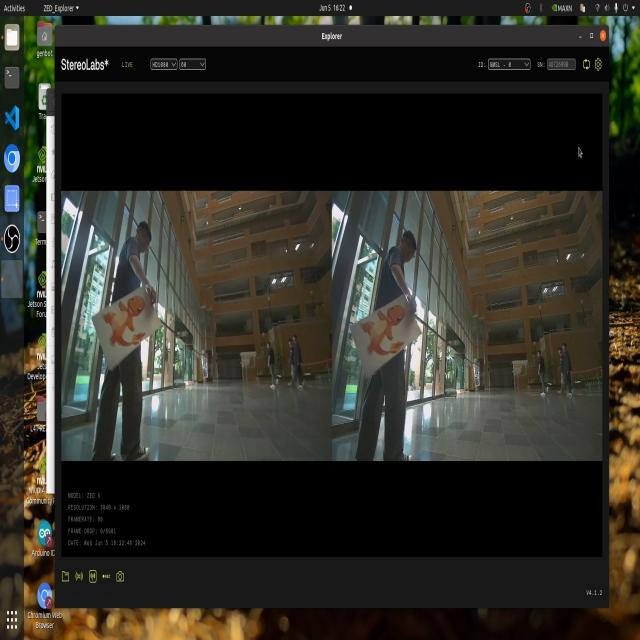red: (353, 288, 407, 375), (98, 293, 159, 359)
